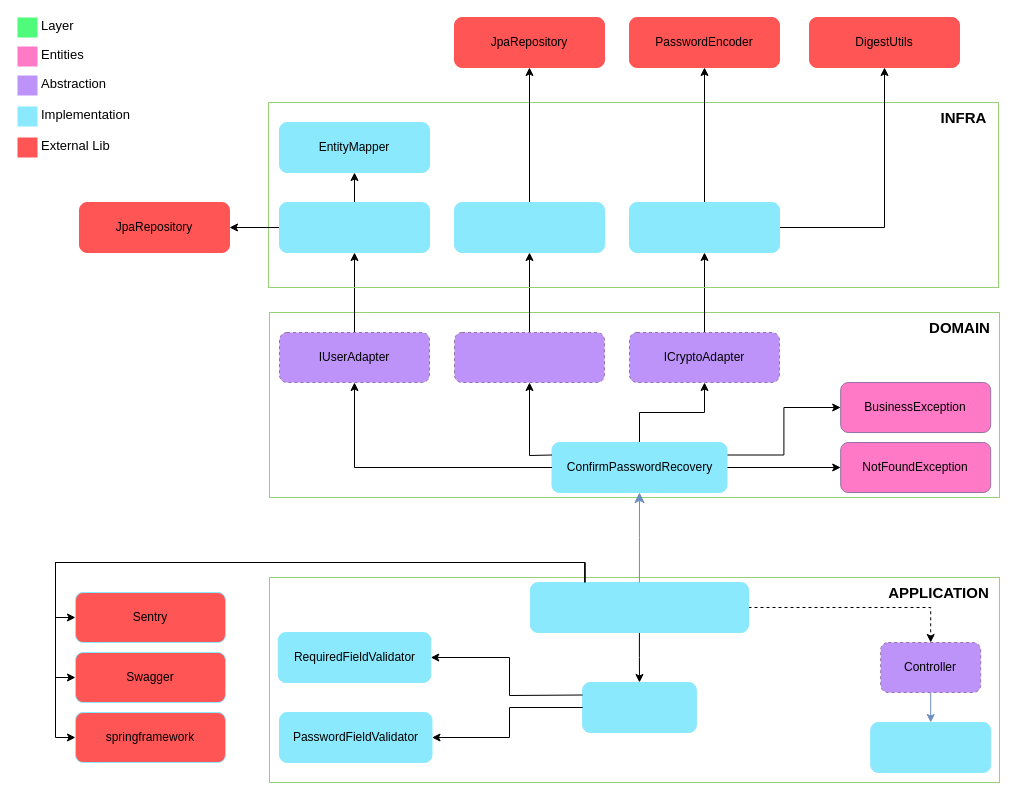
Some shapes in this 1017 by 800 pixel diagram are drawn without their labels. The shapes that lost their labels are listed below. From the top down, each one's box as (x1, y1, x2, y2) in pixels, then its label:
(278, 202, 430, 252): UserAdapter
(454, 202, 604, 252): AuthAdapter
(628, 202, 780, 252): CryptoAdapter
(454, 332, 604, 382): IAuthAdapter
(529, 582, 748, 632): ConfirmPasswordRecoveryController
(582, 682, 696, 732): ValidationBuilder
(870, 722, 991, 772): ValidationComposite
